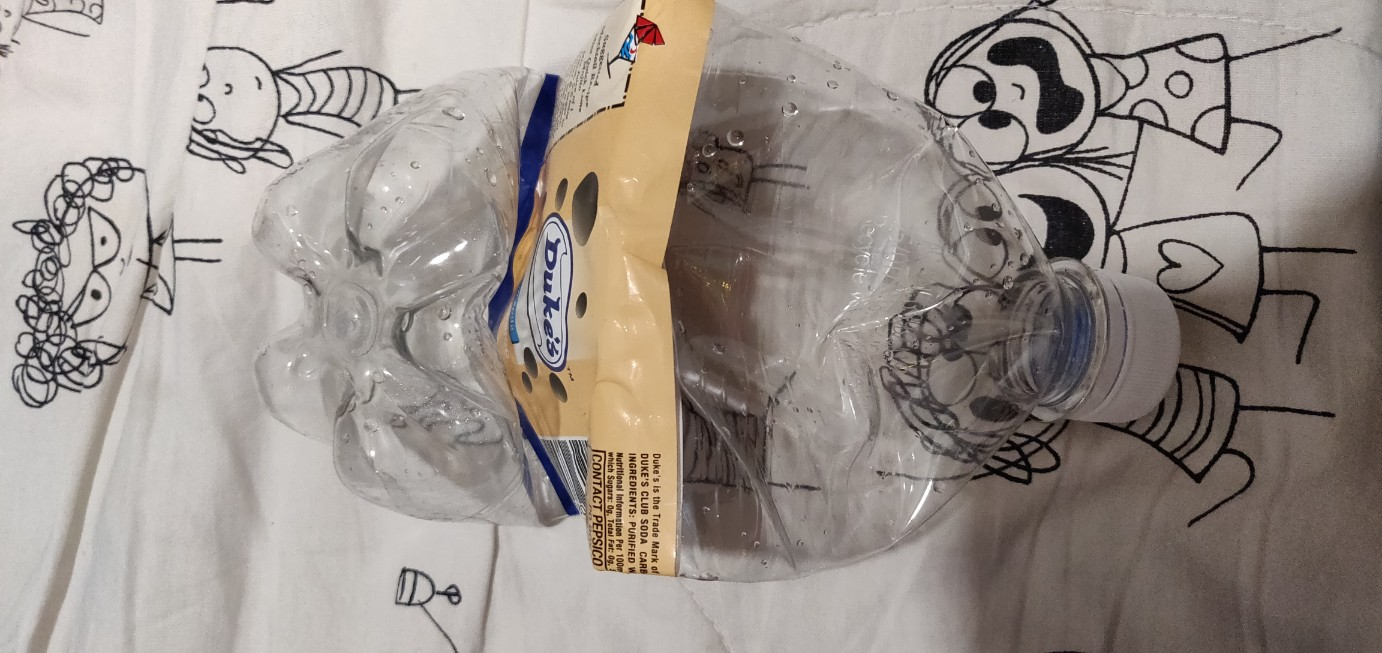Electronics: (230, 23, 1216, 605)
